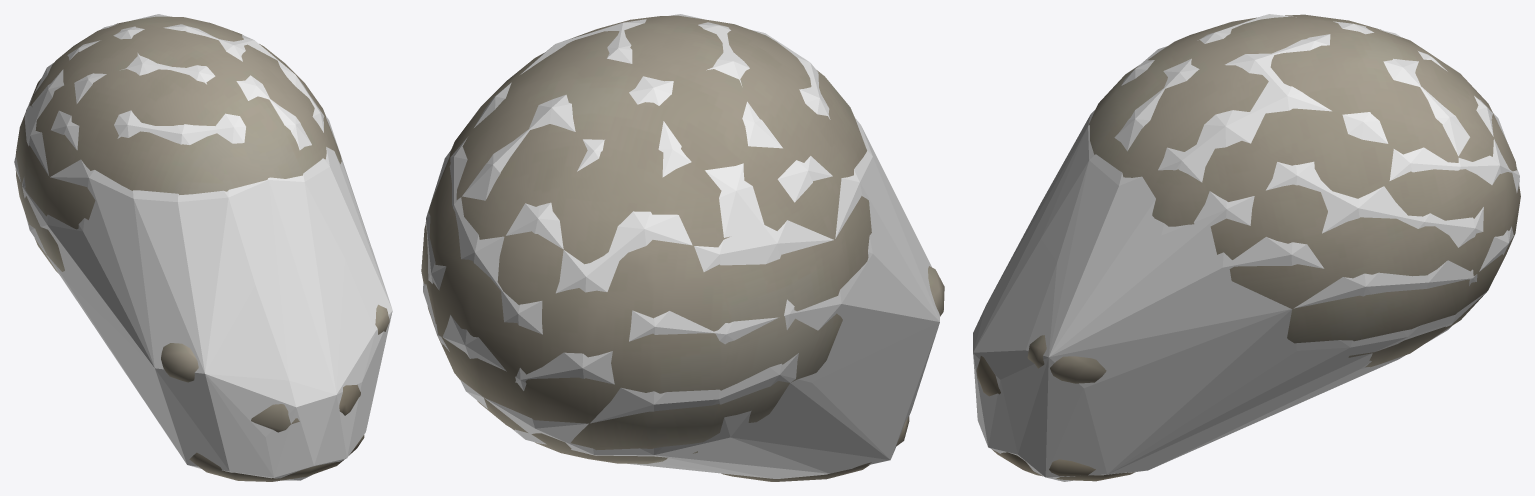
The model's file is skull.webp.glb.
3 renders of one model, left to right at view 1: azimuth 30°, elevation 25°; view 2: azimuth 150°, elevation 25°; view 3: azimuth 270°, elevation 25°, orthographic. The views are drawn at different scales.
Parts seen in each view (by area): view 1: COL, LOD0_body; view 2: LOD0_body, COL; view 3: COL, LOD0_body.
Boxes of the visible parts, x1,y1,x2,y2 form: COL: (14,14,392,481); LOD0_body: (15,16,389,481); LOD0_body: (421,15,944,481); COL: (423,14,939,478); COL: (973,14,1519,481); LOD0_body: (976,14,1520,481).
Size of the model in its own units: 0.1556 by 0.2011 by 0.234.
1 material, 1 textured.
